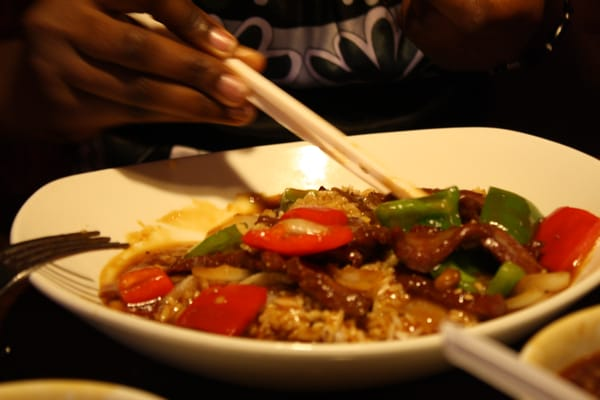burger: (0, 229, 125, 297)
salad: (221, 57, 435, 200)
sushi: (16, 174, 599, 392)
